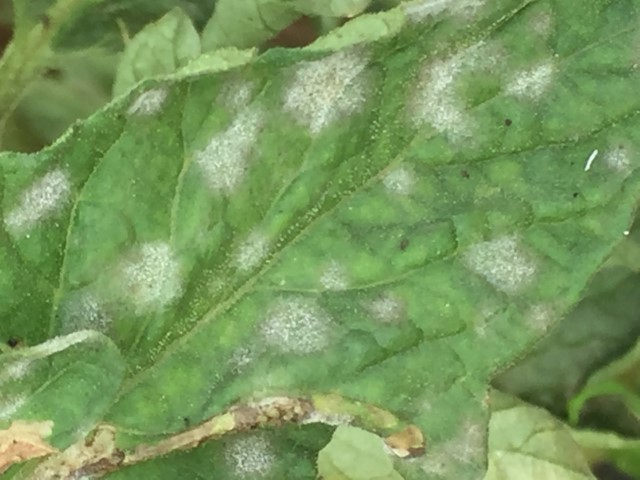oidio: (410, 38, 494, 140), (193, 80, 266, 193), (284, 48, 370, 137), (122, 240, 183, 315), (4, 170, 71, 237), (260, 297, 332, 357), (464, 234, 536, 294), (423, 425, 483, 477), (226, 432, 278, 477), (502, 64, 554, 102), (402, 1, 486, 24), (74, 293, 111, 334), (127, 85, 169, 118), (370, 291, 405, 324), (382, 164, 416, 196), (470, 305, 500, 335), (321, 259, 348, 292), (2, 357, 32, 386), (1, 391, 31, 419), (526, 300, 552, 327), (603, 145, 631, 170), (229, 346, 253, 371), (533, 14, 552, 40)
